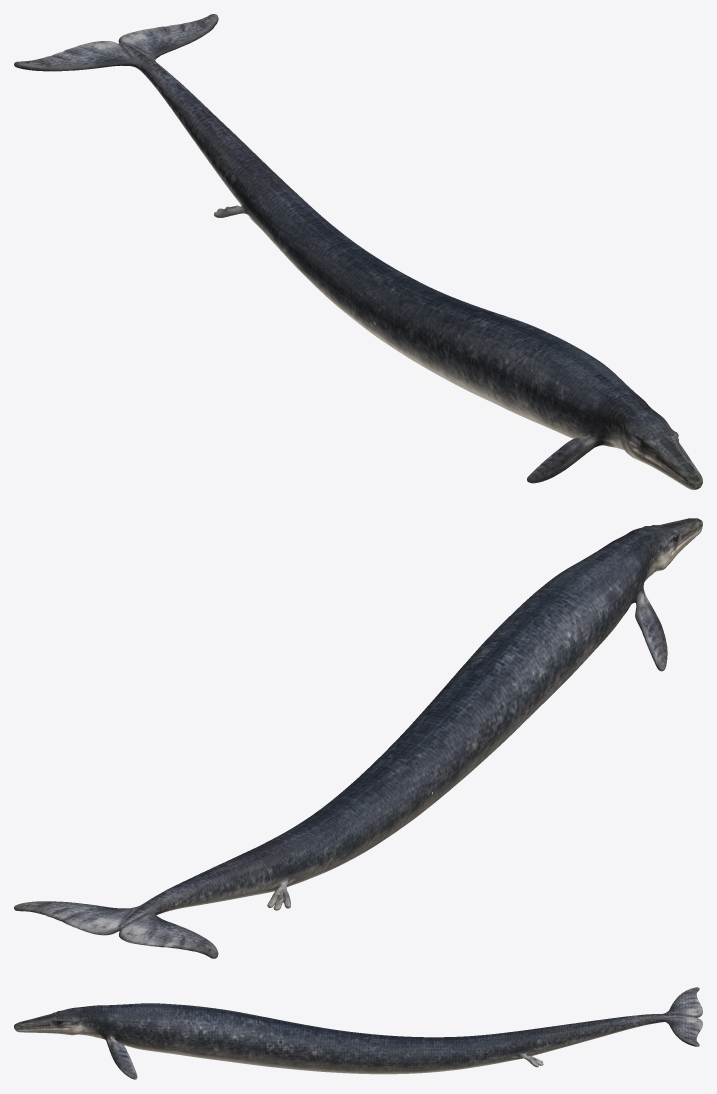
3 views of the same model, one above another, from view 1: azimuth 30°, elevation 25°; view 2: azimuth 150°, elevation 25°; view 3: azimuth 270°, elevation 25° (orthographic). The views are drawn at different scales.
Visible parts, largest first — view 1: Authored orientation; view 2: Authored orientation; view 3: Authored orientation.
Part boxes in pixels (x1,y1,x2,y2): Authored orientation: (14,14,702,489); Authored orientation: (14,518,702,958); Authored orientation: (14,987,702,1079).
Bounding box in the file's own units: 0.1995 × 0.1071 × 1.
Materials: 1 (1 with a texture image).
